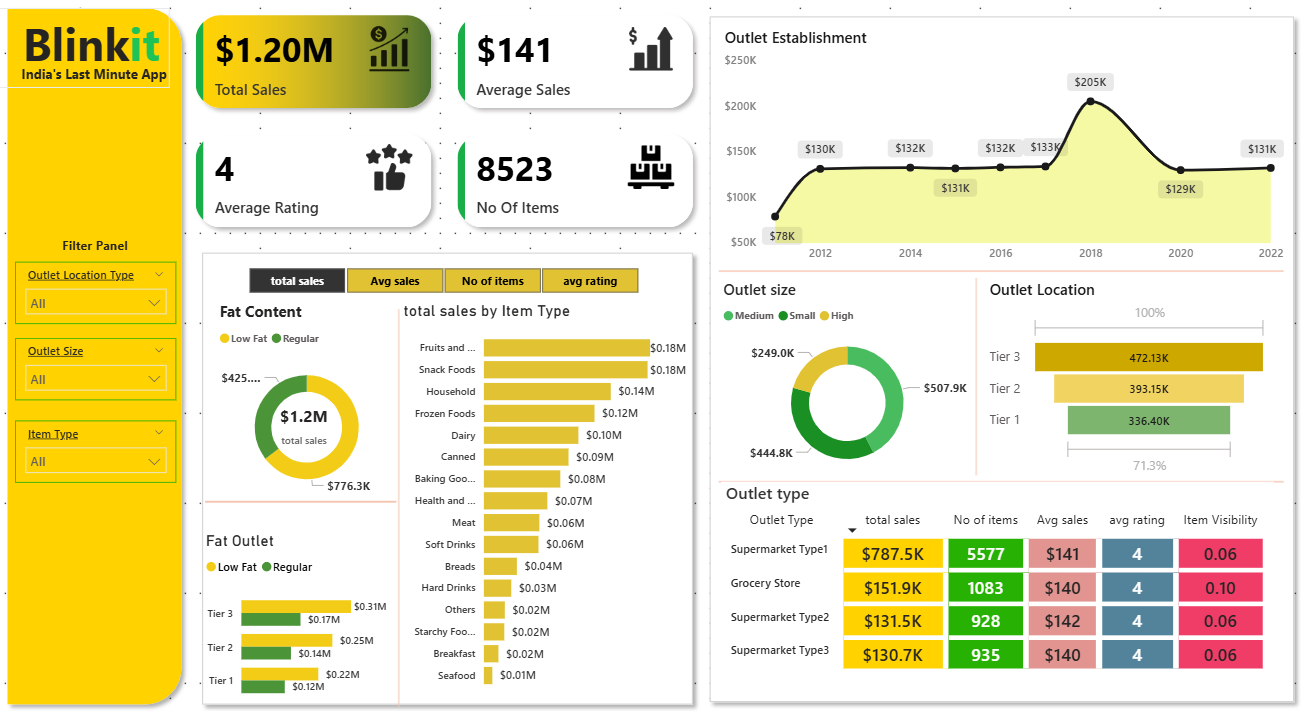

This screenshot's page, from the dashboard's own definition file:
{"tool":"powerbi","page":{"name":"Page 1","canvas":[1400,800],"ordinal":0},"visuals":[{"type":"shape","box":[9.3,38.7,204,761.3],"z":0},{"type":"textbox","box":[9.3,48,182.7,85.3],"z":1000},{"type":"textbox","box":[0,104,213.3,42.7],"z":2000},{"type":"cardVisual","fields":{"Data":["BlinkIT Grocery Data.total sales","BlinkIT Grocery Data.Avg sales","BlinkIT Grocery Data.avg rating","BlinkIT Grocery Data.No of items"]},"box":[202.7,38.7,565.3,261.3],"z":3000},{"type":"shape","box":[217.3,300,541.3,500],"z":4000},{"type":"donutChart","title":"Fat Content","fields":{"Y":["BlinkIT Grocery Data.total sales"],"Category":["BlinkIT Grocery Data.Item Fat Content"]},"box":[240,360,196,221.3],"z":5000},{"type":"slicer","fields":{"Values":["Parameter.Parameter"]},"box":[250.7,318.7,465,40],"z":6000},{"type":"cardVisual","fields":{"Data":["BlinkIT Grocery Data.total sales"]},"box":[292,466.7,86.7,54.7],"z":7000},{"type":"clusteredBarChart","title":"Fat Outlet","fields":{"Y":["BlinkIT Grocery Data.total sales"],"Category":["BlinkIT Grocery Data.Outlet Location Type"],"Series":["BlinkIT Grocery Data.Item Fat Content"]},"box":[225.3,605.3,202.7,194.7],"z":8000},{"type":"shape","box":[229.3,560,204,29.3],"z":9000},{"type":"shape","box":[984,326.7,134.7,424],"z":10000},{"type":"barChart","fields":{"Y":["BlinkIT Grocery Data.total sales"],"Category":["BlinkIT Grocery Data.Item Type"]},"box":[436,360,312,424],"z":11000},{"type":"shape","box":[758.7,48,641.3,749.3],"z":12000},{"type":"lineChart","title":"Outlet Establishment","fields":{"Y":["BlinkIT Grocery Data.total sales"],"Category":["BlinkIT Grocery Data.Outlet Establishment Year"]},"box":[778.7,68,606.7,260],"z":13000},{"type":"shape","box":[777.3,258.7,602.7,140],"z":14000},{"type":"donutChart","title":"Outlet size","fields":{"Y":["BlinkIT Grocery Data.total sales"],"Category":["BlinkIT Grocery Data.Outlet Size"]},"box":[777.3,336,274.7,217.3],"z":15000},{"type":"shape","box":[1029.3,336,45.3,210.7],"z":16000},{"type":"shape","box":[409.3,369.3,53.3,424],"z":17000},{"type":"funnel","title":"Outlet Location","fields":{"Category":["BlinkIT Grocery Data.Outlet Location Type"],"Y":["Sum(BlinkIT Grocery Data.Sales)"]},"box":[1061.3,336,306.7,214.7],"z":18000},{"type":"shape","box":[777.3,520,602.7,66.7],"z":19000},{"type":"pivotTable","title":"Outlet type","fields":{"Rows":["BlinkIT Grocery Data.Outlet Type"],"Values":["BlinkIT Grocery Data.total sales","BlinkIT Grocery Data.No of items","BlinkIT Grocery Data.Avg sales","BlinkIT Grocery Data.avg rating","Avg(BlinkIT Grocery Data.Item Visibility)"]},"box":[780,553.3,589.3,229.3],"z":20000},{"type":"slicer","fields":{"Values":["BlinkIT Grocery Data.Outlet Location Type"]},"box":[26.7,318.7,172,66.7],"z":21000},{"type":"slicer","fields":{"Values":["BlinkIT Grocery Data.Outlet Size"]},"box":[26.7,400,172,66.7],"z":22000},{"type":"slicer","fields":{"Values":["BlinkIT Grocery Data.Item Type"]},"box":[26.7,488,172,66.7],"z":23000},{"type":"textbox","box":[72,286.7,81.3,28],"z":23001}]}

Visuals, with their boxes on the page's 1400x800 design canvas (x1, y1, x2, y2). These are canvas units, not pixel positions in the 1301x711 screenshot, which may show the page scaled, cropped or inside an application window:
shape: <box>9,39,213,800</box>
textbox: <box>9,48,192,133</box>
textbox: <box>0,104,213,147</box>
cardVisual - BlinkIT Grocery Data.total sales x BlinkIT Grocery Data.Avg sales: <box>203,39,768,300</box>
shape: <box>217,300,759,800</box>
"Fat Content" donutChart: <box>240,360,436,581</box>
slicer - Parameter.Parameter: <box>251,319,716,359</box>
cardVisual - BlinkIT Grocery Data.total sales: <box>292,467,379,521</box>
"Fat Outlet" clusteredBarChart: <box>225,605,428,800</box>
shape: <box>229,560,433,589</box>
shape: <box>984,327,1119,751</box>
barChart - BlinkIT Grocery Data.total sales x BlinkIT Grocery Data.Item Type: <box>436,360,748,784</box>
shape: <box>759,48,1400,797</box>
"Outlet Establishment" lineChart: <box>779,68,1385,328</box>
shape: <box>777,259,1380,399</box>
"Outlet size" donutChart: <box>777,336,1052,553</box>
shape: <box>1029,336,1075,547</box>
shape: <box>409,369,463,793</box>
"Outlet Location" funnel: <box>1061,336,1368,551</box>
shape: <box>777,520,1380,587</box>
"Outlet type" pivotTable: <box>780,553,1369,783</box>
slicer - BlinkIT Grocery Data.Outlet Location Type: <box>27,319,199,385</box>
slicer - BlinkIT Grocery Data.Outlet Size: <box>27,400,199,467</box>
slicer - BlinkIT Grocery Data.Item Type: <box>27,488,199,555</box>
textbox: <box>72,287,153,315</box>
